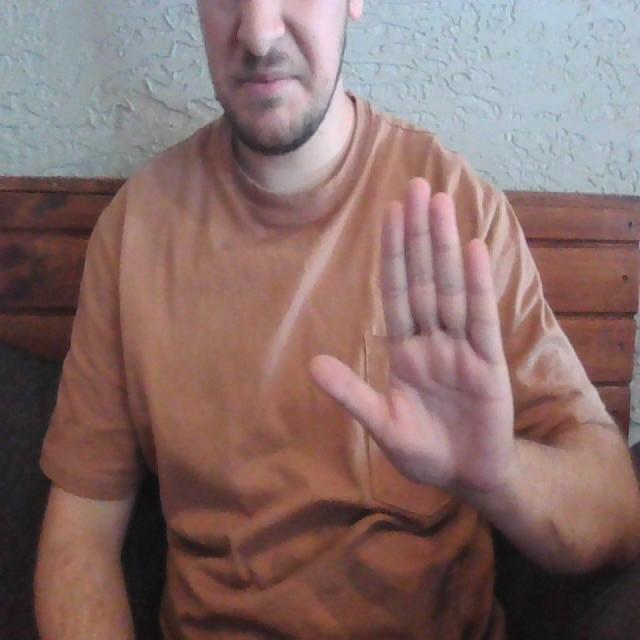Dur: (301, 157, 532, 515)
